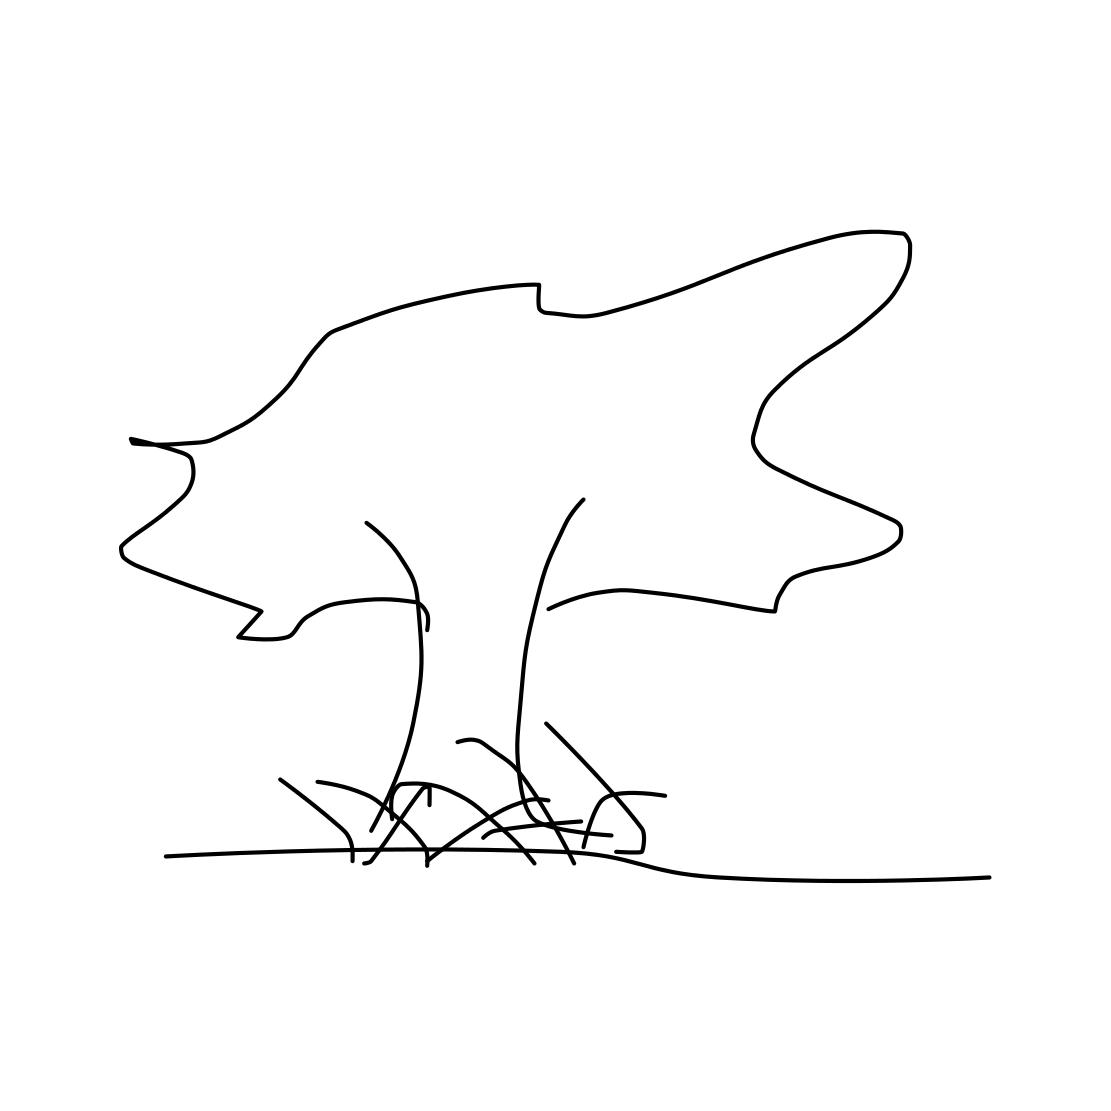Tree: (96, 180, 958, 866)
